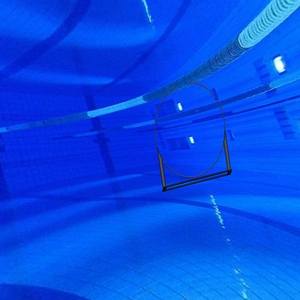circle: (154, 81, 233, 194)
